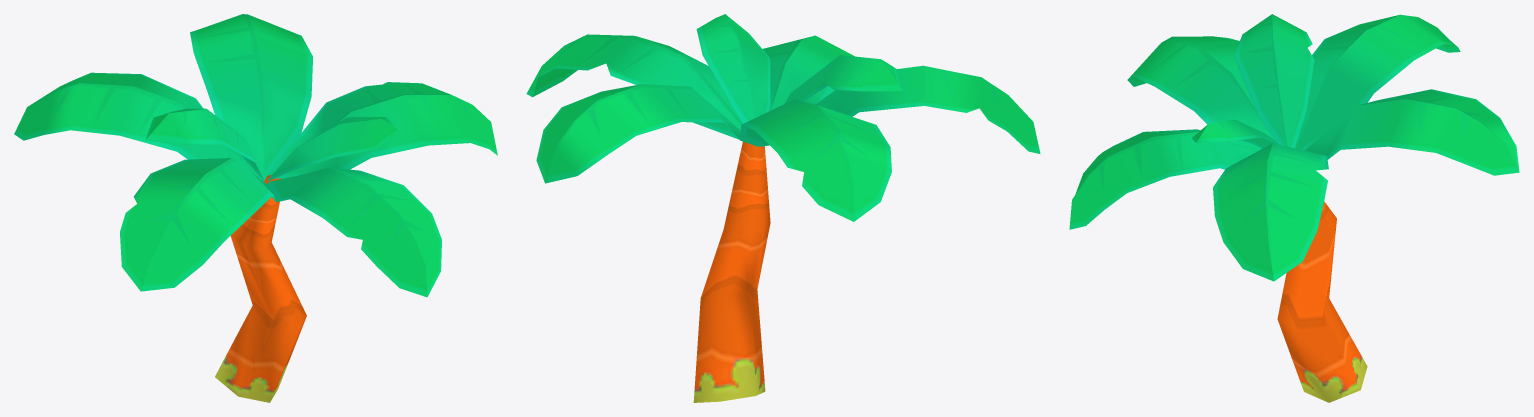
File: tree1.glb
The picture shows the model from 3 angles, left to right: view 1: azimuth 30°, elevation 25°; view 2: azimuth 150°, elevation 25°; view 3: azimuth 270°, elevation 25°; orthographic projection. The views are drawn at different scales.
Parts seen in each view (by area): view 1: bgr_island_brawl_ball_props_right.010_palm_tree.001_0; view 2: bgr_island_brawl_ball_props_right.010_palm_tree.001_0; view 3: bgr_island_brawl_ball_props_right.010_palm_tree.001_0.
Boxes of the visible parts, box(x1,y1,x2,y2) form: bgr_island_brawl_ball_props_right.010_palm_tree.001_0: box(14, 14, 497, 402); bgr_island_brawl_ball_props_right.010_palm_tree.001_0: box(526, 14, 1040, 402); bgr_island_brawl_ball_props_right.010_palm_tree.001_0: box(1069, 14, 1519, 402).
Size of the model in its own units: 4.06 by 3.06 by 3.86.
Materials: 1 (1 with a texture image).
